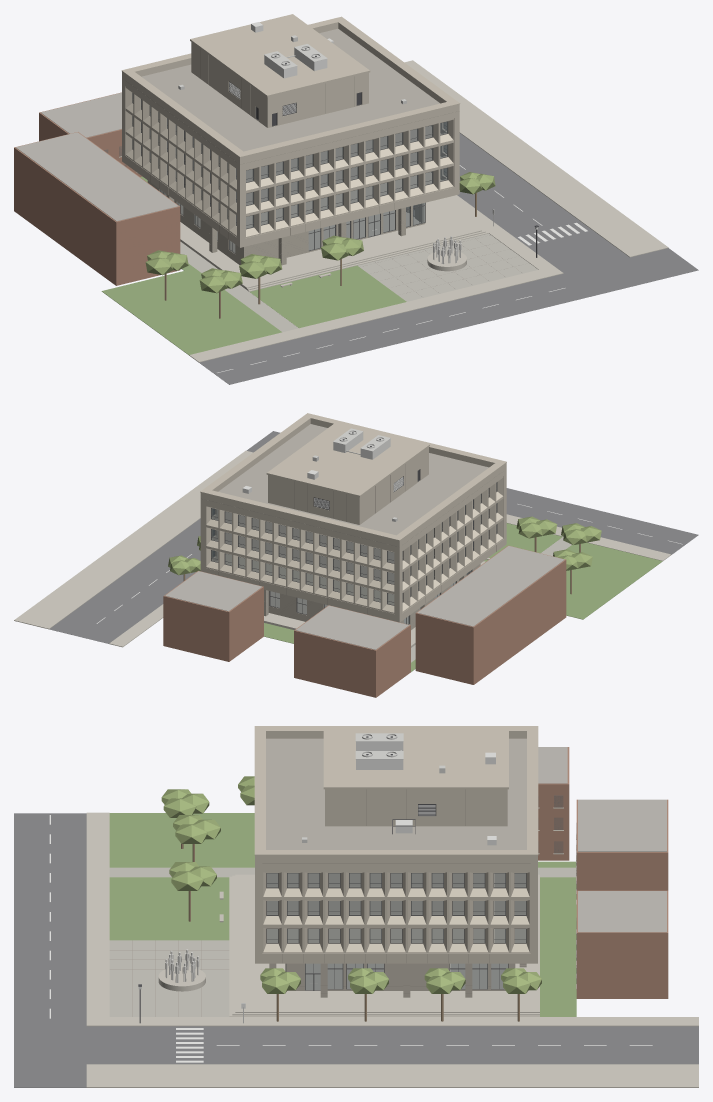
The model's file is clay-calgary-cbe-brutalist-hq-clay-v002.glb.
3 views of the same model, one above another, from view 1: azimuth 30°, elevation 25°; view 2: azimuth 150°, elevation 25°; view 3: azimuth 270°, elevation 25° (orthographic). The views are drawn at different scales.
Visible parts, largest first — view 1: CLAY_PRECAST, CLAY_ASPHALT, CLAY_CONCRETE, CLAY_GRASS, CLAY_NEIGHBOUR, CLAY_ROOF, CLAY_MEMBRANE, CLAY_PAVING, CLAY_GLASS, CLAY_PLANTING, CLAY_BOARD, CLAY_FRAME (+5 smaller); view 2: CLAY_PRECAST, CLAY_NEIGHBOUR, CLAY_ASPHALT, CLAY_MEMBRANE, CLAY_CONCRETE, CLAY_ROOF, CLAY_GRASS, CLAY_GLASS, CLAY_PLANTING, CLAY_FRAME, CLAY_FLOOR, CLAY_BOARD (+2 smaller); view 3: CLAY_PRECAST, CLAY_ASPHALT, CLAY_CONCRETE, CLAY_GRASS, CLAY_ROOF, CLAY_NEIGHBOUR, CLAY_PAVING, CLAY_MEMBRANE, CLAY_GLASS, CLAY_PLANTING, CLAY_FLOOR, CLAY_FRAME (+6 smaller).
Boxes of the visible parts, left/top/right/bottom form: CLAY_PRECAST: left=121, top=14, right=460, bottom=247; CLAY_ASPHALT: left=199, top=133, right=698, bottom=384; CLAY_CONCRETE: left=165, top=60, right=668, bottom=362; CLAY_GRASS: left=101, top=176, right=406, bottom=355; CLAY_NEIGHBOUR: left=14, top=92, right=180, bottom=285; CLAY_ROOF: left=141, top=28, right=439, bottom=151; CLAY_MEMBRANE: left=16, top=92, right=178, bottom=221; CLAY_PAVING: left=180, top=233, right=538, bottom=332; CLAY_GLASS: left=104, top=94, right=447, bottom=252; CLAY_PLANTING: left=145, top=172, right=495, bottom=293; CLAY_BOARD: left=147, top=180, right=425, bottom=265; CLAY_FRAME: left=132, top=81, right=448, bottom=253; CLAY_PRECAST: left=200, top=413, right=506, bottom=622; CLAY_NEIGHBOUR: left=163, top=545, right=566, bottom=697; CLAY_ASPHALT: left=49, top=431, right=698, bottom=643; CLAY_MEMBRANE: left=165, top=546, right=564, bottom=649; CLAY_CONCRETE: left=14, top=450, right=671, bottom=647; CLAY_ROOF: left=218, top=424, right=488, bottom=535; CLAY_GRASS: left=264, top=523, right=662, bottom=671; CLAY_GLASS: left=211, top=483, right=496, bottom=624; CLAY_PLANTING: left=168, top=516, right=601, bottom=575; CLAY_FRAME: left=211, top=469, right=497, bottom=624; CLAY_FLOOR: left=217, top=512, right=394, bottom=583; CLAY_BOARD: left=264, top=563, right=480, bottom=629; CLAY_PRECAST: left=254, top=726, right=538, bottom=963; CLAY_ASPHALT: left=14, top=813, right=698, bottom=1087; CLAY_CONCRETE: left=86, top=812, right=698, bottom=1087; CLAY_GRASS: left=109, top=813, right=576, bottom=1016; CLAY_ROOF: left=266, top=738, right=526, bottom=849; CLAY_NEIGHBOUR: left=538, top=747, right=668, bottom=998; CLAY_PAVING: left=109, top=867, right=576, bottom=1016; CLAY_MEMBRANE: left=538, top=747, right=666, bottom=932; CLAY_GLASS: left=267, top=795, right=576, bottom=989; CLAY_PLANTING: left=161, top=776, right=541, bottom=993; CLAY_FLOOR: left=267, top=873, right=525, bottom=914; CLAY_FRAME: left=266, top=804, right=526, bottom=990.
Size of the model in its own units: 84.9 by 28.37 by 89.55.
